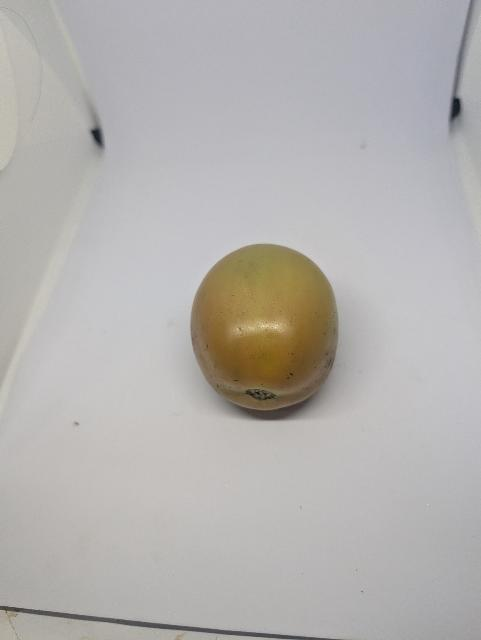turning: (190, 238, 339, 414)
